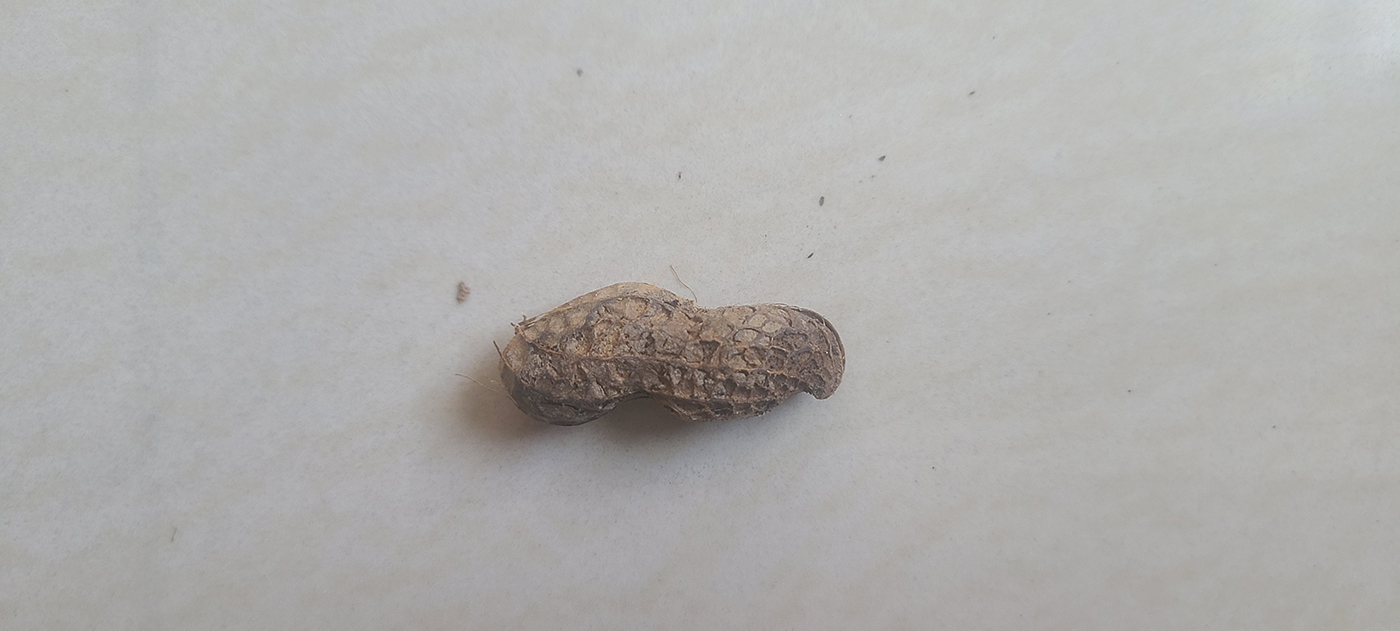l: (494, 283, 846, 426)
